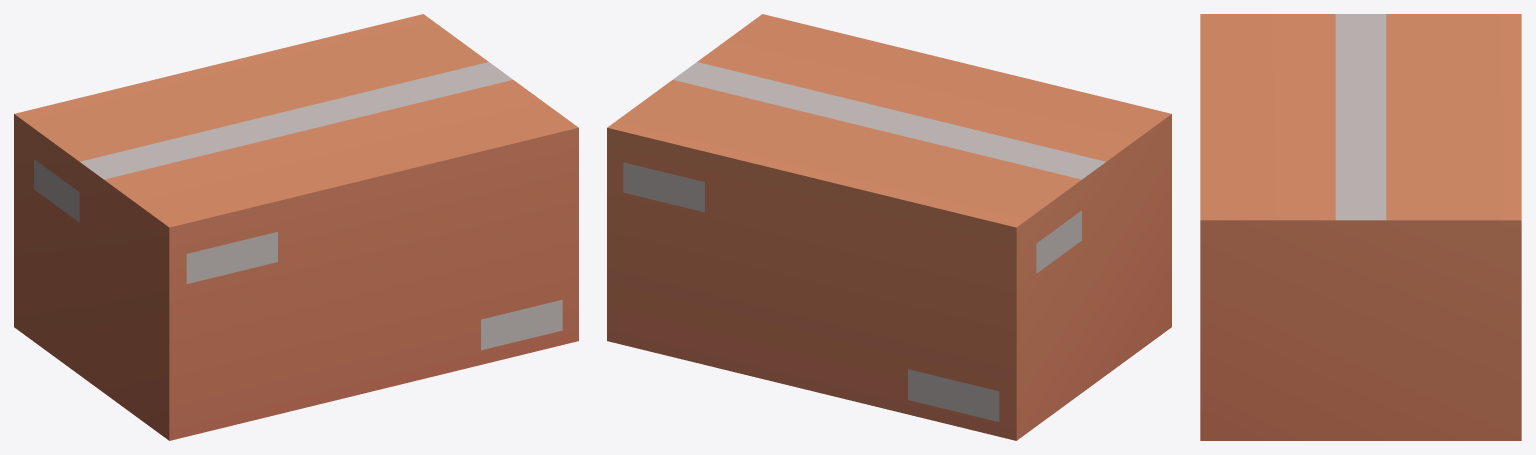
3 renders of one model, left to right at view 1: azimuth 30°, elevation 25°; view 2: azimuth 150°, elevation 25°; view 3: azimuth 270°, elevation 25°, orthographic. The views are drawn at different scales.
Parts seen in each view (by area): view 1: box; view 2: box; view 3: box.
Boxes of the visible parts, left/top/right/bottom form: box: left=14, top=14, right=578, bottom=440; box: left=607, top=14, right=1171, bottom=440; box: left=1200, top=14, right=1521, bottom=440.
Bounding box in the file's own units: 128 × 63.56 × 83.89.
1 material, 1 textured.
